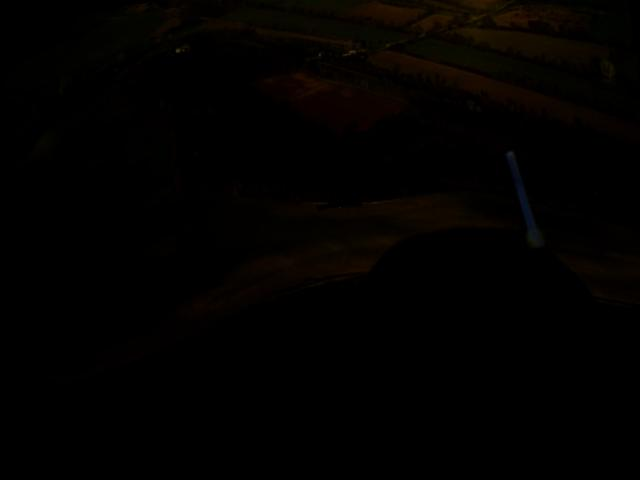iha: (314, 199, 358, 218)
